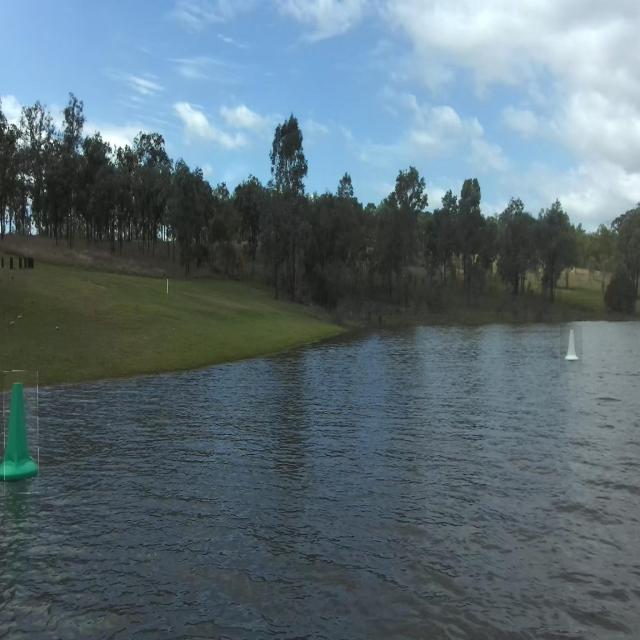Green_Buoy: (6, 374, 43, 487)
White_Buoy: (564, 318, 586, 376)
